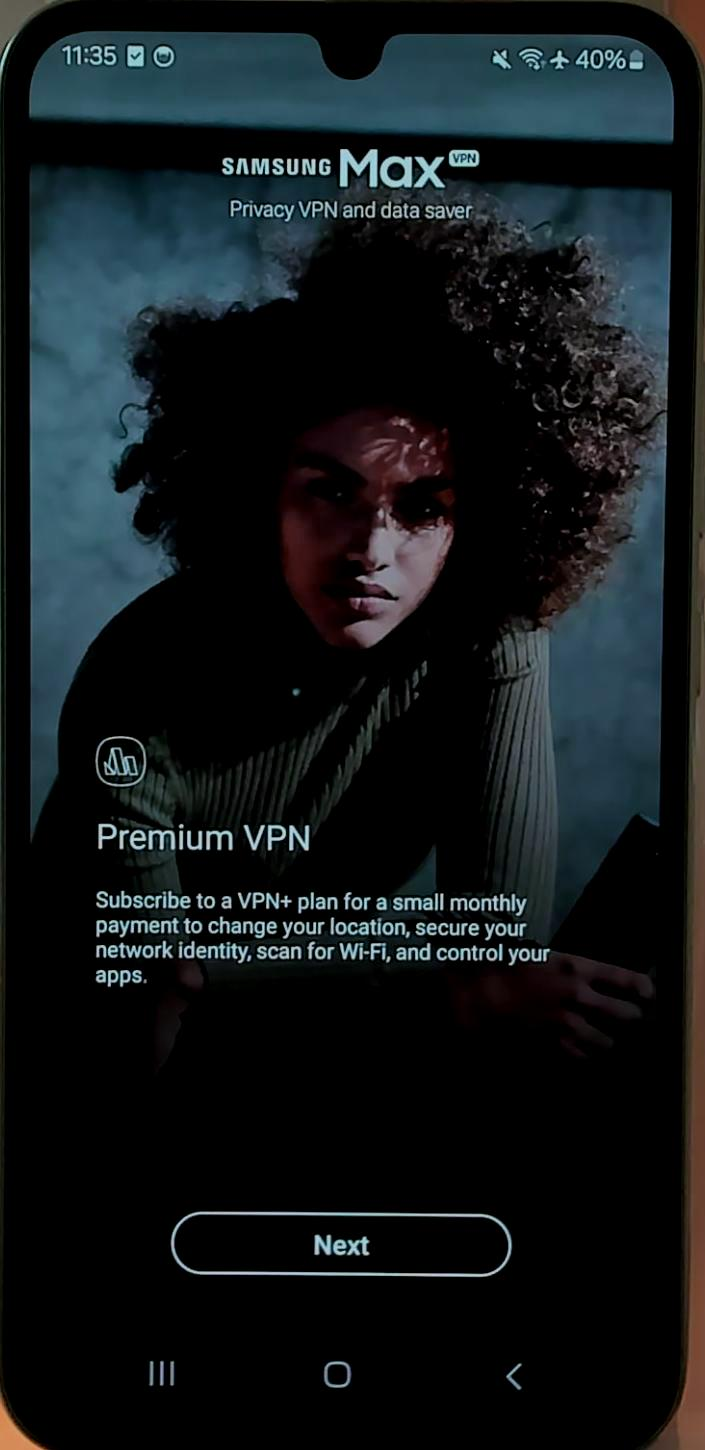CommunBotton: (164, 1198, 516, 1288), (128, 1350, 188, 1404), (308, 1350, 368, 1400), (492, 1350, 546, 1398)
